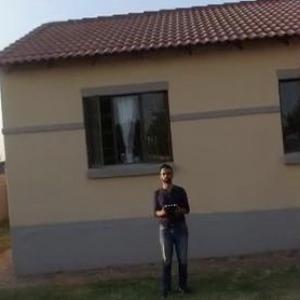follow: (150, 159, 197, 299)
